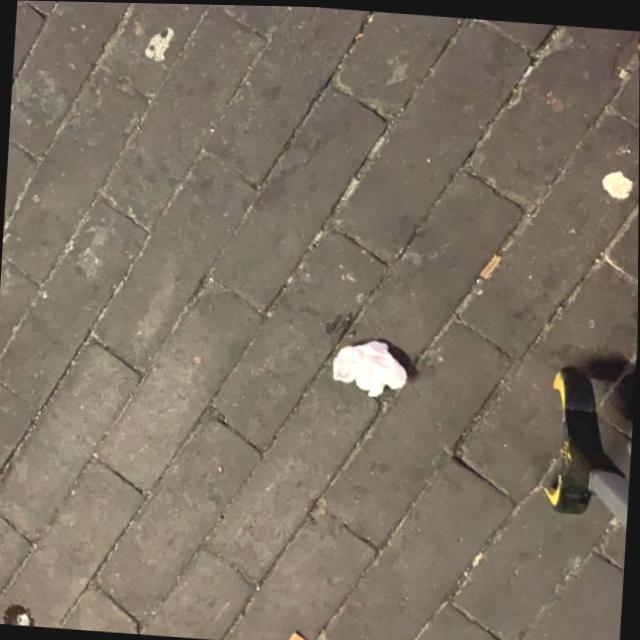Paper: (330, 331, 411, 398)
